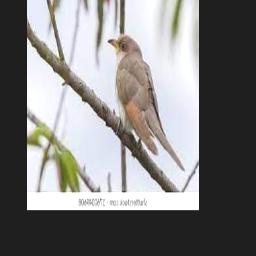Cuckoo: (108, 34, 185, 172)
